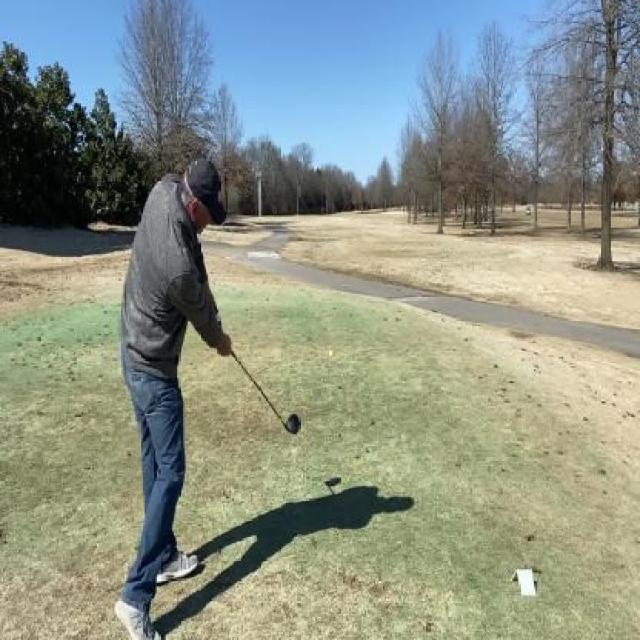club head: (281, 413, 301, 436)
